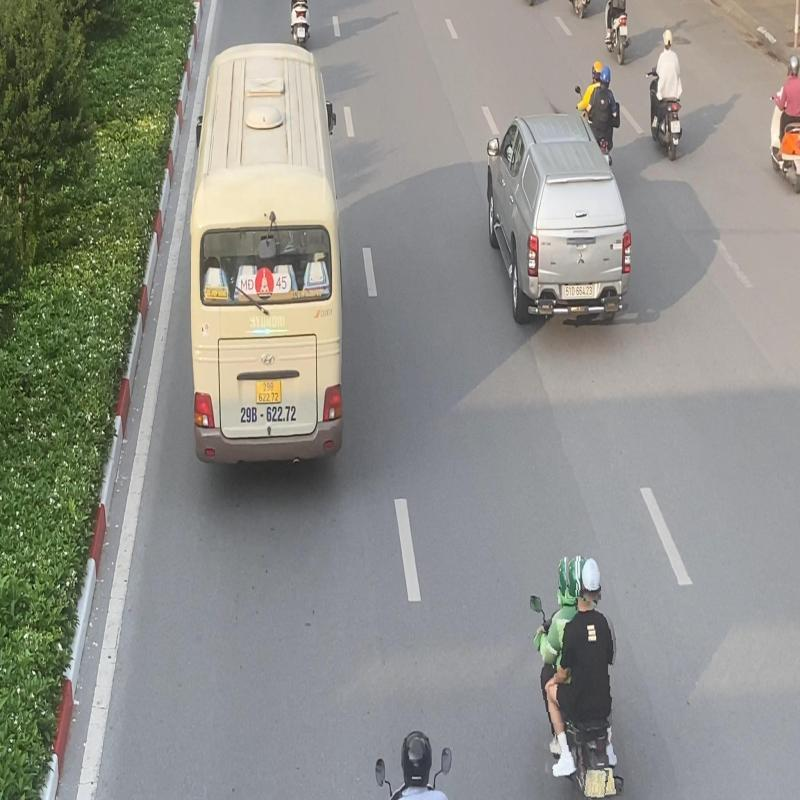helmet: (580, 556, 601, 602), (566, 552, 587, 598)
licenseplate: (582, 768, 608, 800)
motorcyclist: (529, 549, 624, 800)
